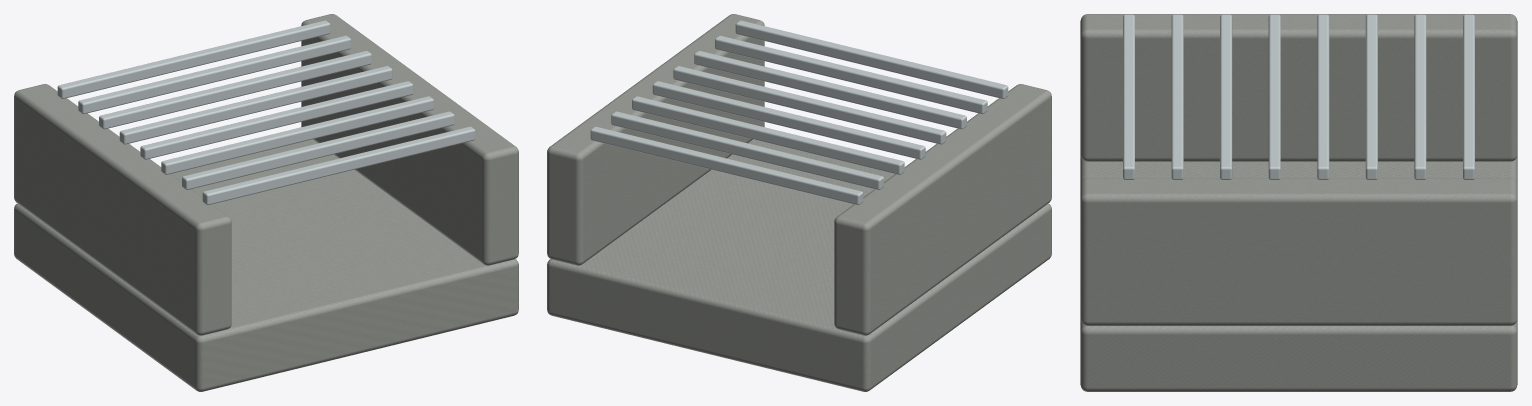
File: hydroelectric-dam-infiltration-drainage-sump-f2fbb364__29362.glb
The picture shows the model from 3 angles, left to right: view 1: azimuth 30°, elevation 25°; view 2: azimuth 150°, elevation 25°; view 3: azimuth 270°, elevation 25°; orthographic projection. The views are drawn at different scales.
Visible parts, largest first — view 1: drainage-sump; view 2: drainage-sump; view 3: drainage-sump.
Boxes of the visible parts, x1,y1,x2,y2 form: drainage-sump: [14, 14, 518, 391]; drainage-sump: [547, 14, 1051, 391]; drainage-sump: [1080, 14, 1517, 391].
Bounding box in the file's own units: 0.9 × 0.48 × 0.9.
Materials: 2 (1 with a texture image).
